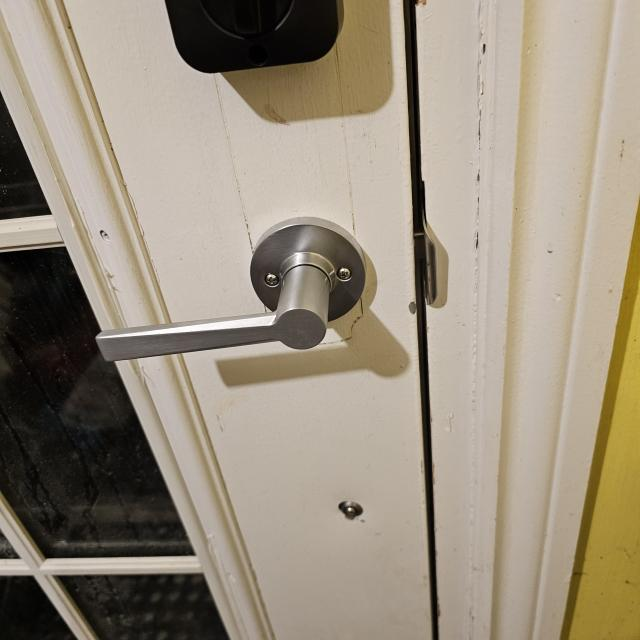door-handle: (98, 218, 365, 360)
